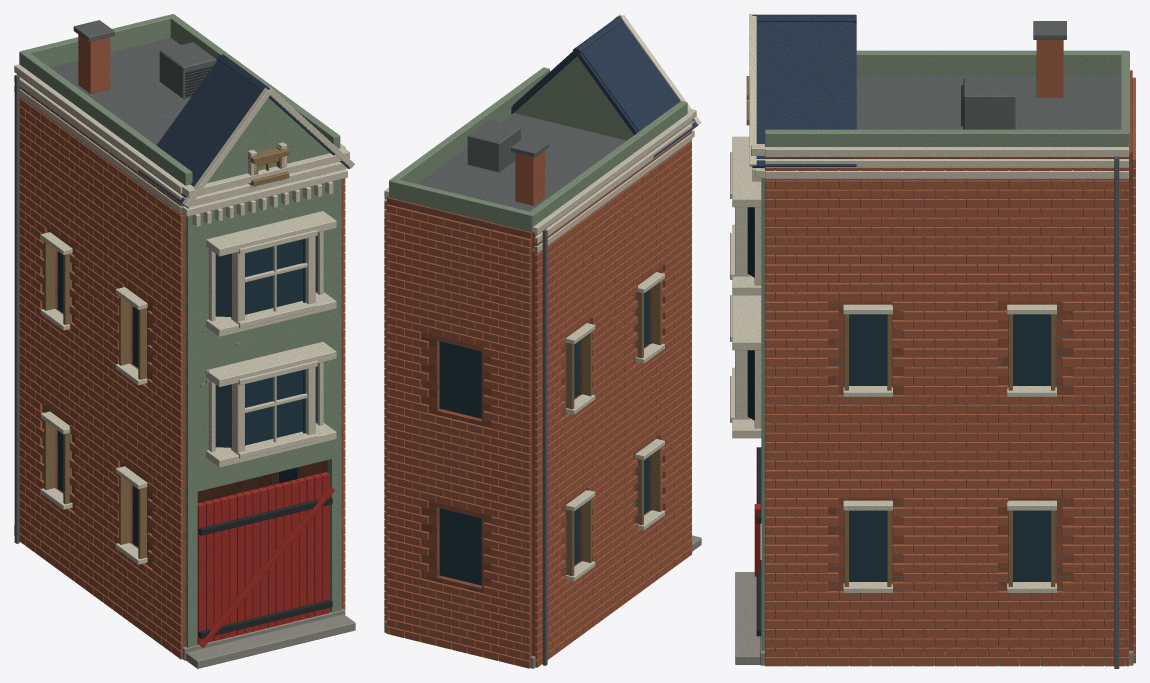
File: VICT12_lod0.glb
3 views of the same model, side by side, from view 1: azimuth 30°, elevation 25°; view 2: azimuth 150°, elevation 25°; view 3: azimuth 270°, elevation 25° (orthographic). The views are drawn at different scales.
Visible parts, largest first — view 1: VICT12_LOD0; view 2: VICT12_LOD0; view 3: VICT12_LOD0.
Part boxes in pixels (x1,y1,x2,y2): VICT12_LOD0: (14,14,355,668); VICT12_LOD0: (384,14,701,668); VICT12_LOD0: (730,14,1135,668).
Size of the model in its own units: 3.71 by 11.05 by 6.69.
14 materials, 12 textured.
